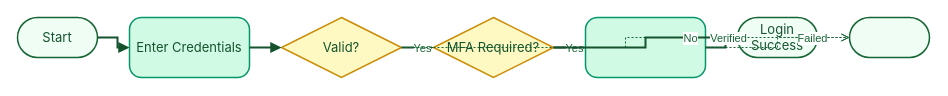
This 948x96 diagram has some shape labels left out. The box of each missing label's shape, as (x1, y1, x2, y2) in pixels:
Login Failed: (848, 16, 930, 58)
Verify MFA: (584, 16, 706, 78)
